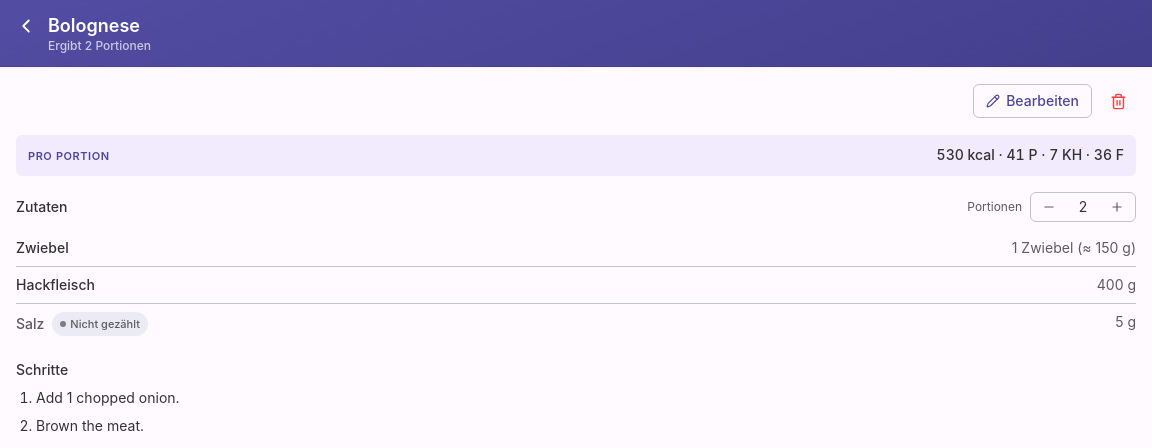
it: RecipeDetail — servings multiplier › shows reset only when the value differs from the stored yield, and reset returns to it
Expected: the heading "Bolognese" is shown, top-left (48, 15), bottom-right (140, 36)
Expected: the button "zurücksetzen" is not shown
Click the button named "Eine Portion mehr" at (1117, 207), box top-left (1103, 195), bottom-right (1131, 219)
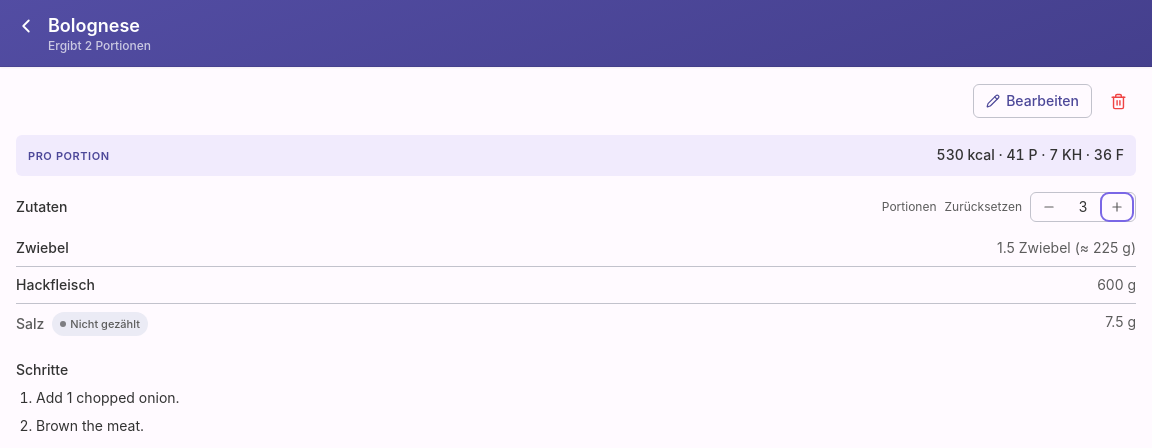
Click the button "Zurücksetzen" at (983, 207), box top-left (944, 199), bottom-right (1022, 215)
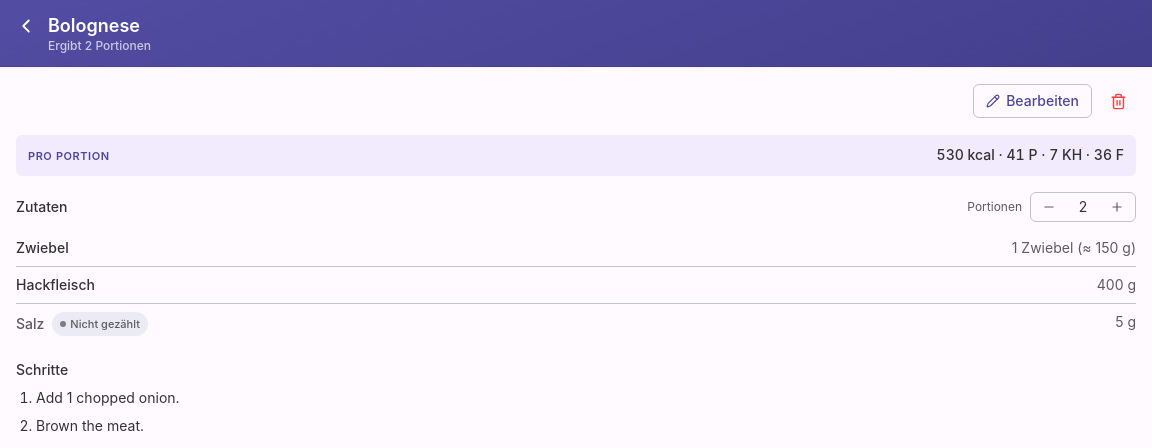
Result: the number field named "Portionen" holds "2" at top-left (1067, 197), bottom-right (1099, 217)
Result: the text "1 Zwiebel (≈ 150 g)" is shown at top-left (1012, 238), bottom-right (1136, 258)
Result: the button "Zurücksetzen" is gone
